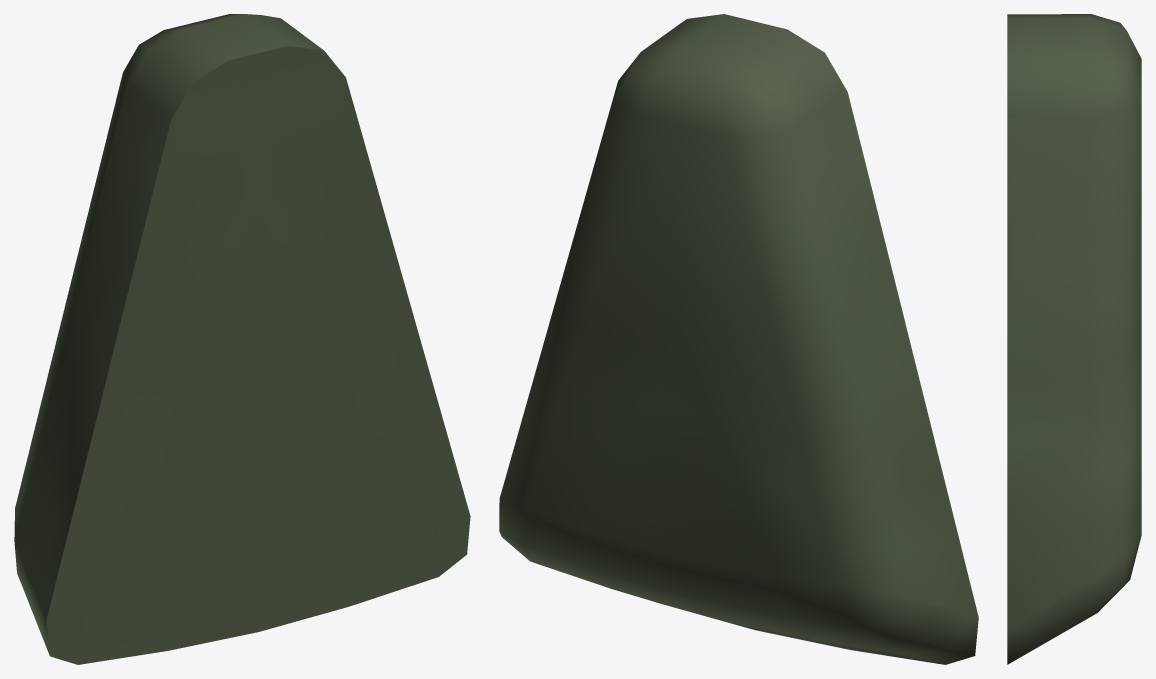
Rendered from life_support.fbx.
3 views of the same model, side by side, from view 1: azimuth 30°, elevation 25°; view 2: azimuth 150°, elevation 25°; view 3: azimuth 270°, elevation 25° (orthographic). The views are drawn at different scales.
Visible parts, largest first — view 1: mesh; view 2: mesh; view 3: mesh.
Part boxes in pixels (<box>): mesh: <box>14,14,470,664</box>; mesh: <box>499,14,978,664</box>; mesh: <box>1007,14,1141,664</box>.
Size of the model in its own units: 0.3518 by 0.4588 by 0.1.
